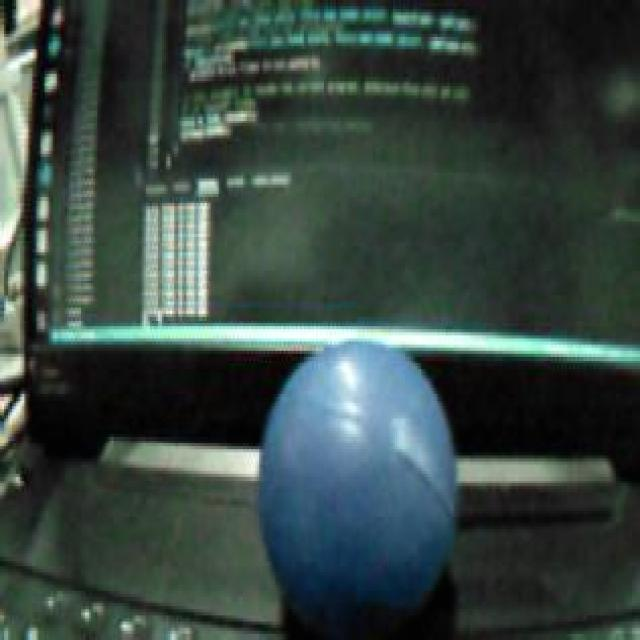BallPurple: (260, 340, 456, 616)
